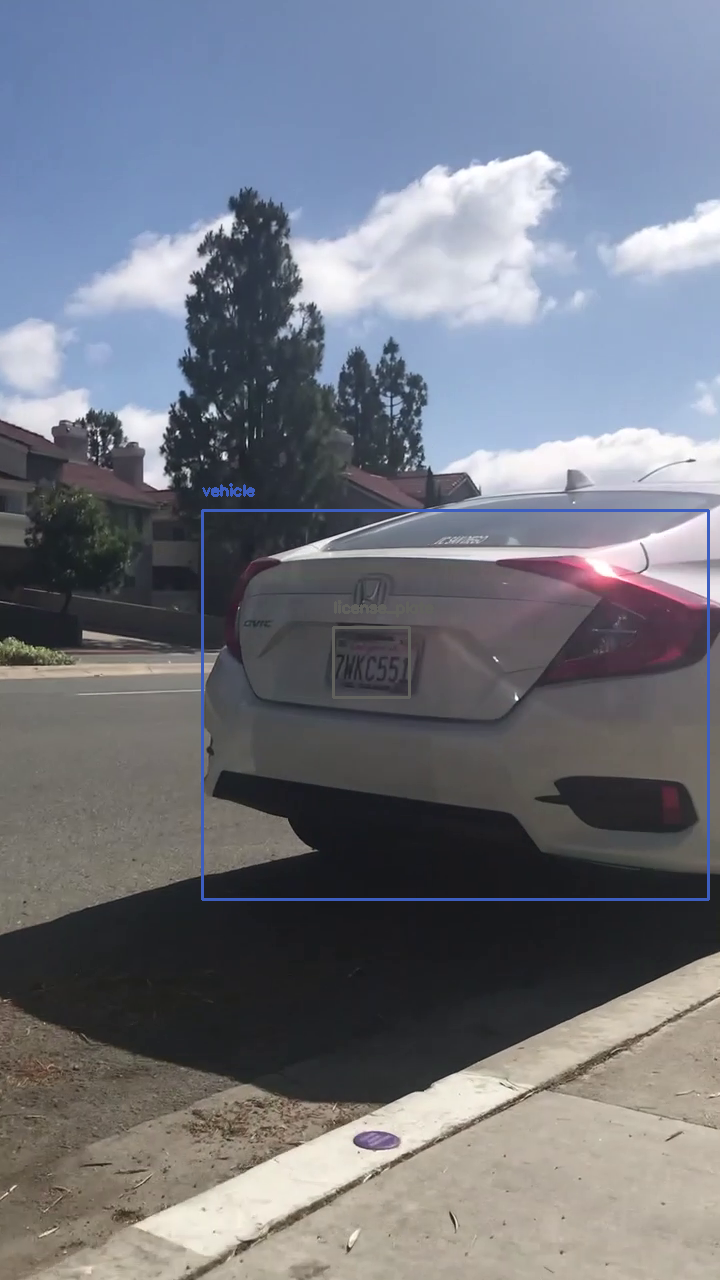license_plate: (333, 627, 409, 697)
vehicle: (202, 510, 708, 899)
